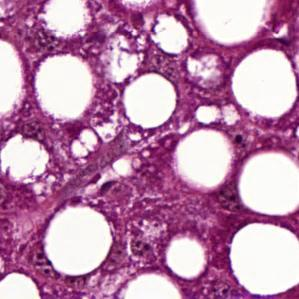steatosis: (49, 202, 119, 277), (119, 75, 180, 129)
